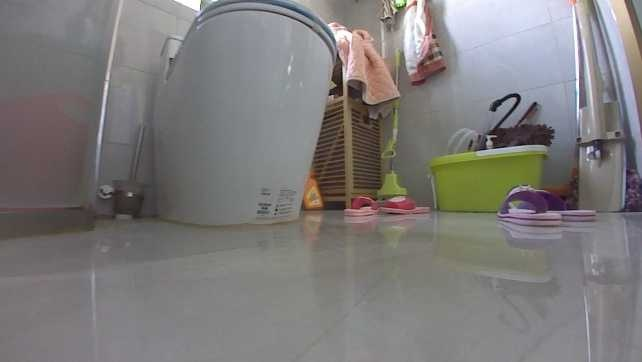slipper: (495, 181, 560, 226), (540, 188, 600, 221), (378, 190, 432, 214), (342, 191, 379, 218)
toilet: (149, 0, 335, 228)
